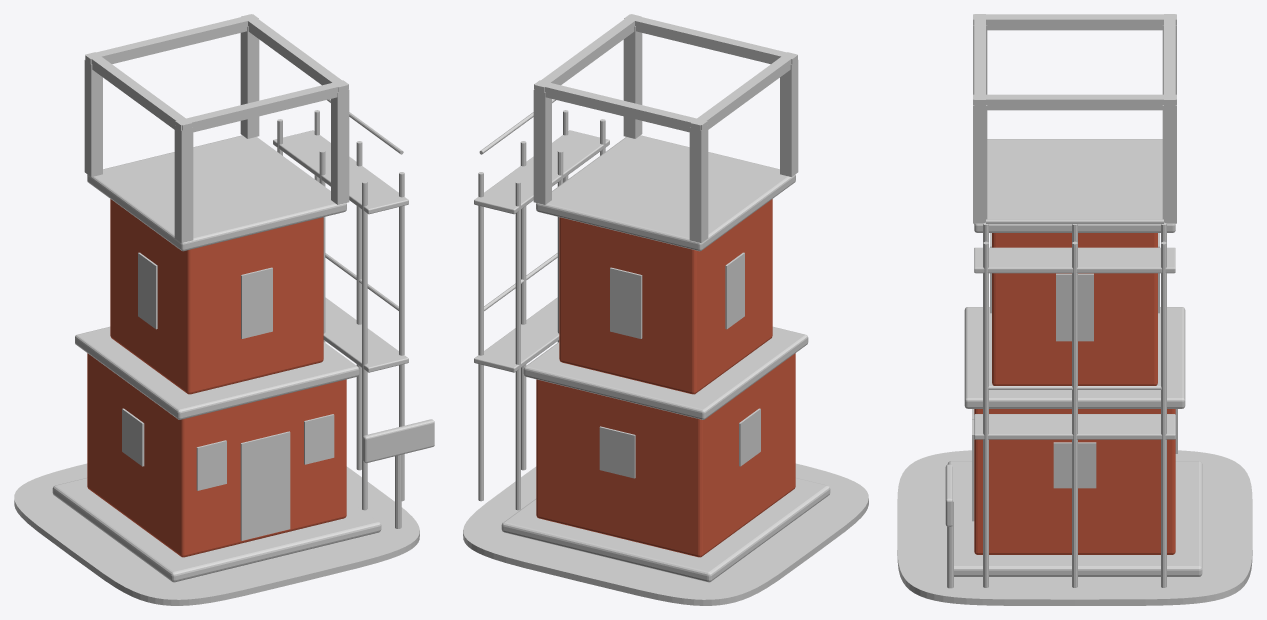
The model's file is clock-tower-stage-2-merged.0c901ae3.glb.
3 renders of one model, left to right at view 1: azimuth 30°, elevation 25°; view 2: azimuth 150°, elevation 25°; view 3: azimuth 270°, elevation 25°, orthographic. The views are drawn at different scales.
Parts seen in each view (by area): view 1: ClockTower_Stage2__T_vcol, ClockTower_Stage2__T_brickwall; view 2: ClockTower_Stage2__T_vcol, ClockTower_Stage2__T_brickwall; view 3: ClockTower_Stage2__T_vcol, ClockTower_Stage2__T_brickwall.
Boxes of the visible parts, left/top/right/bottom form: ClockTower_Stage2__T_vcol: left=14, top=14, right=434, bottom=605; ClockTower_Stage2__T_brickwall: left=87, top=199, right=346, bottom=557; ClockTower_Stage2__T_vcol: left=463, top=14, right=868, bottom=605; ClockTower_Stage2__T_brickwall: left=536, top=199, right=795, bottom=557; ClockTower_Stage2__T_vcol: left=897, top=14, right=1252, bottom=605; ClockTower_Stage2__T_brickwall: left=974, top=233, right=1175, bottom=554.
Size of the model in its own units: 4.98 by 7.06 by 4.8.
